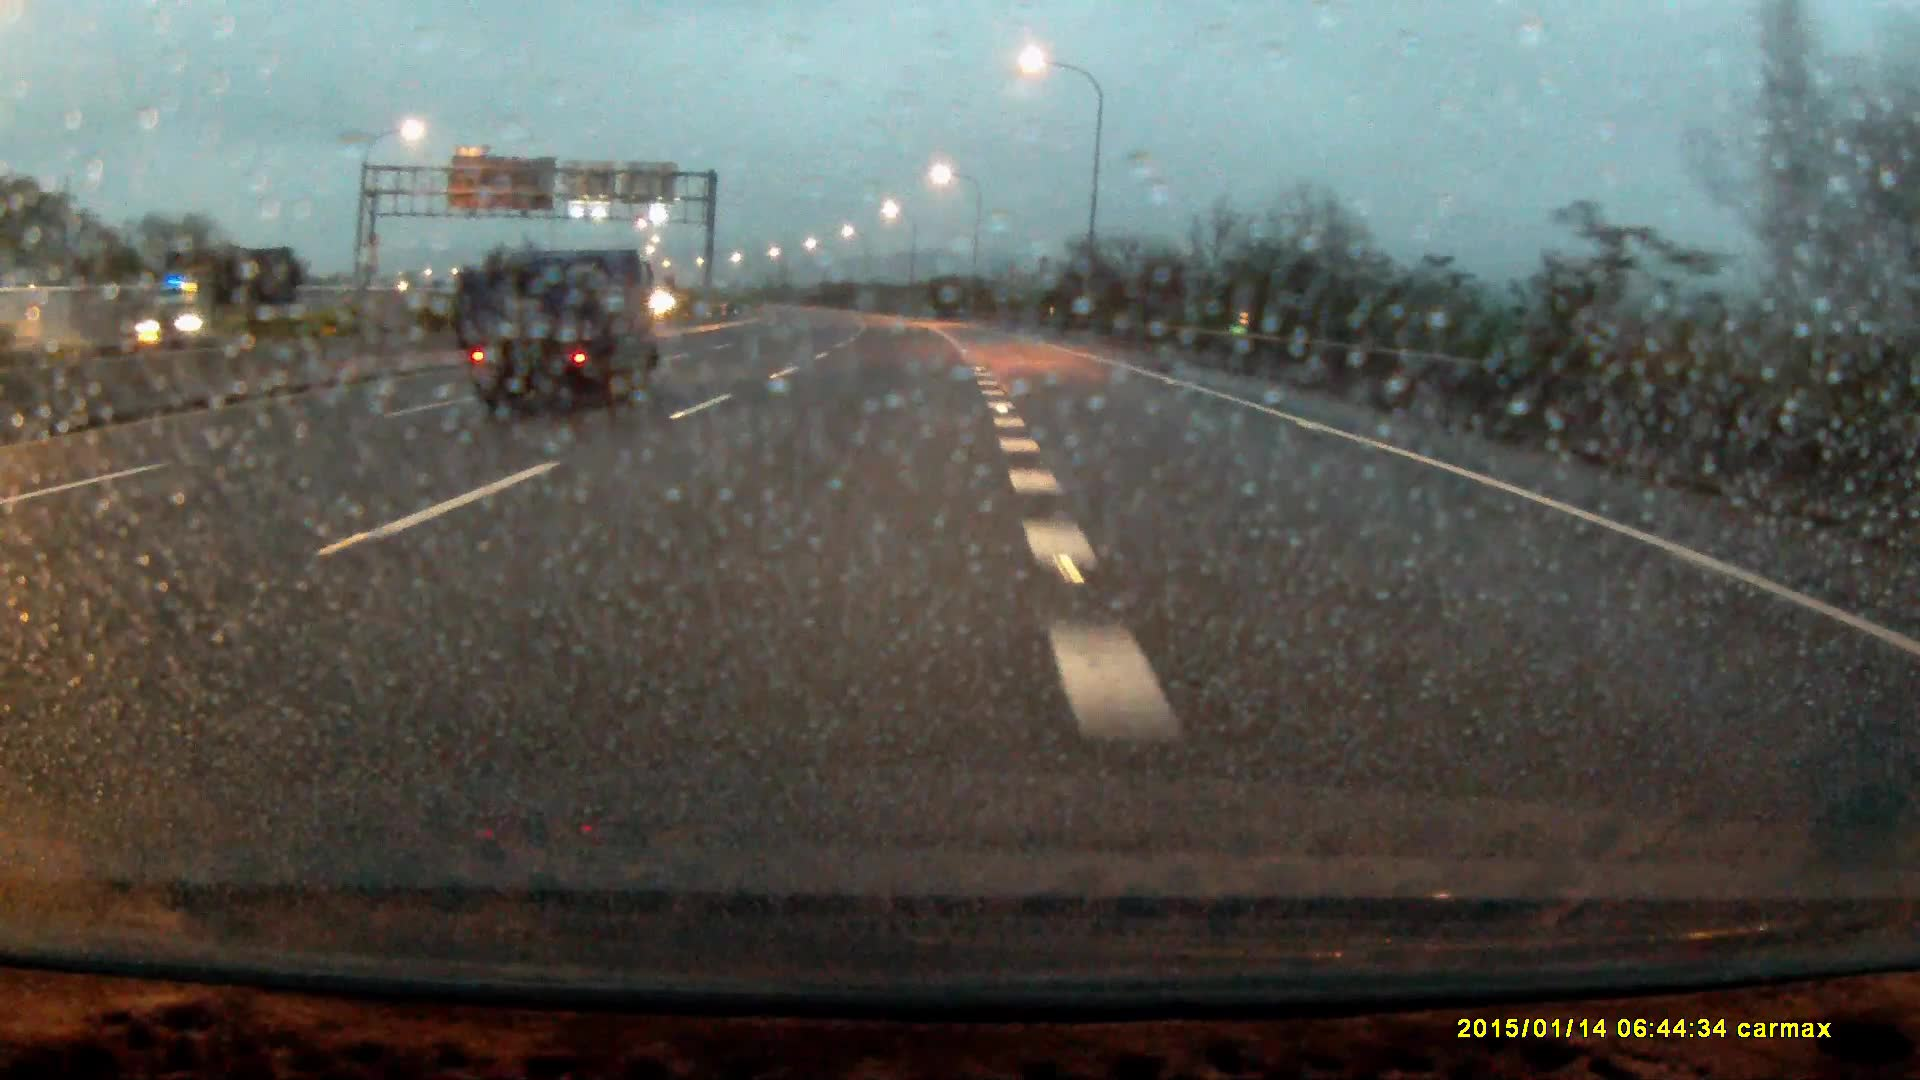vehicle: (454, 247, 661, 413), (131, 244, 302, 349)
